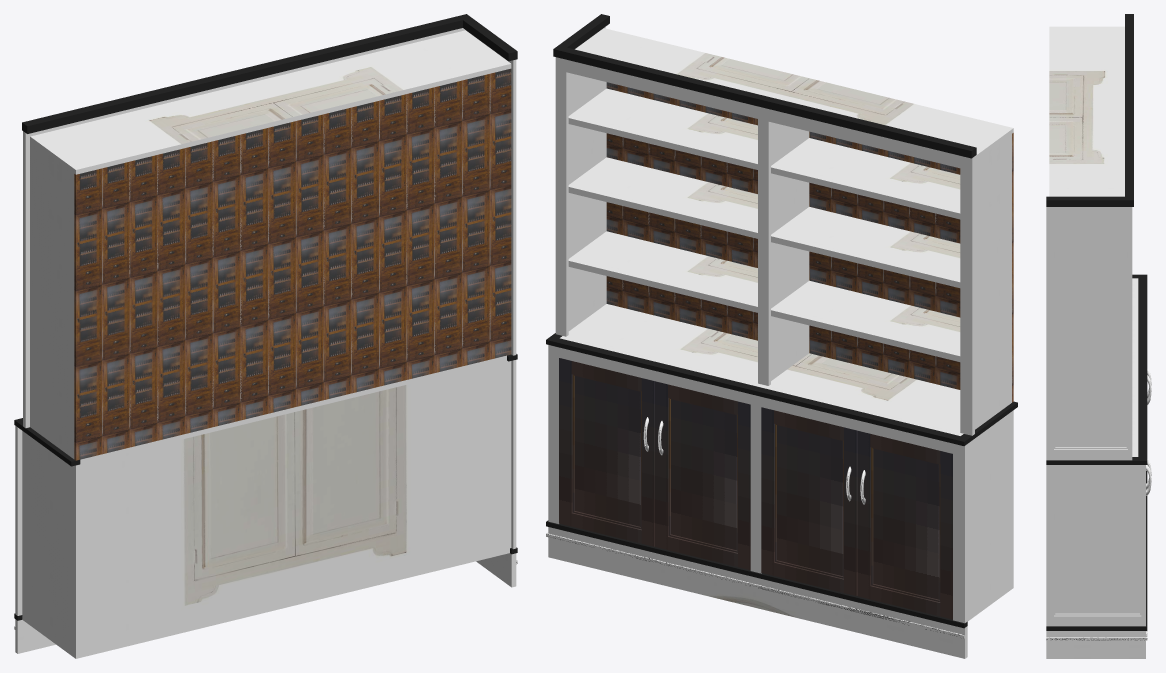
3 views of the same model, side by side, from view 1: azimuth 30°, elevation 25°; view 2: azimuth 150°, elevation 25°; view 3: azimuth 270°, elevation 25° (orthographic). The views are drawn at different scales.
Visible parts, largest first — view 1: mesh70_mesh70-geometry, mesh9_mesh9-geometry, mesh12_mesh12-geometry, mesh14_mesh14-geometry, mesh40_mesh40-geometry, mesh24_mesh24-geometry, mesh54_mesh54-geometry, mesh52_mesh52-geometry, mesh68_mesh68-geometry, mesh44_mesh44-geometry, mesh36_mesh36-geometry, mesh22_mesh22-geometry (+4 smaller); view 2: mesh66_mesh66-geometry, mesh92_mesh92-geometry, mesh70_mesh70-geometry, mesh14_mesh14-geometry, mesh88_mesh88-geometry, mesh54_mesh54-geometry, mesh5_mesh5-geometry, mesh12_mesh12-geometry, mesh64_mesh64-geometry, mesh90_mesh90-geometry, mesh40_mesh40-geometry, mesh24_mesh24-geometry (+13 smaller); view 3: mesh14_mesh14-geometry, mesh12_mesh12-geometry, mesh40_mesh40-geometry, mesh28_mesh28-geometry, mesh68_mesh68-geometry, mesh16_mesh16-geometry, mesh24_mesh24-geometry, mesh36_mesh36-geometry, mesh48_mesh48-geometry, mesh54_mesh54-geometry, mesh38_mesh38-geometry, mesh22_mesh22-geometry (+11 smaller).
Part boxes in pixels (<box>): mesh70_mesh70-geometry: <box>74,68,511,460</box>; mesh9_mesh9-geometry: <box>74,360,511,658</box>; mesh12_mesh12-geometry: <box>30,30,511,174</box>; mesh14_mesh14-geometry: <box>30,141,74,458</box>; mesh40_mesh40-geometry: <box>22,431,74,652</box>; mesh24_mesh24-geometry: <box>22,14,466,133</box>; mesh54_mesh54-geometry: <box>80,355,506,464</box>; mesh52_mesh52-geometry: <box>23,131,38,428</box>; mesh68_mesh68-geometry: <box>508,59,516,355</box>; mesh44_mesh44-geometry: <box>15,426,22,615</box>; mesh36_mesh36-geometry: <box>511,360,516,549</box>; mesh22_mesh22-geometry: <box>463,14,517,61</box>; mesh66_mesh66-geometry: <box>569,88,960,353</box>; mesh92_mesh92-geometry: <box>574,376,939,599</box>; mesh70_mesh70-geometry: <box>606,82,1013,402</box>; mesh14_mesh14-geometry: <box>568,73,1011,429</box>; mesh88_mesh88-geometry: <box>559,358,952,619</box>; mesh54_mesh54-geometry: <box>560,304,963,435</box>; mesh5_mesh5-geometry: <box>546,527,967,658</box>; mesh12_mesh12-geometry: <box>575,28,1013,160</box>; mesh64_mesh64-geometry: <box>568,116,960,361</box>; mesh90_mesh90-geometry: <box>571,361,940,616</box>; mesh40_mesh40-geometry: <box>967,412,1011,616</box>; mesh24_mesh24-geometry: <box>553,47,976,158</box>; mesh14_mesh14-geometry: <box>1055,218,1126,447</box>; mesh12_mesh12-geometry: <box>1049,26,1124,196</box>; mesh40_mesh40-geometry: <box>1055,475,1139,613</box>; mesh28_mesh28-geometry: <box>1046,631,1147,658</box>; mesh68_mesh68-geometry: <box>1046,207,1053,460</box>; mesh16_mesh16-geometry: <box>1138,275,1147,460</box>; mesh24_mesh24-geometry: <box>1125,14,1133,199</box>; mesh36_mesh36-geometry: <box>1046,465,1053,626</box>; mesh48_mesh48-geometry: <box>1128,207,1132,460</box>; mesh54_mesh54-geometry: <box>1132,278,1138,456</box>; mesh38_mesh38-geometry: <box>1054,615,1141,626</box>; mesh22_mesh22-geometry: <box>1046,196,1133,206</box>.
Size of the model in its own units: 0.6485 by 0.7454 by 0.1547.
